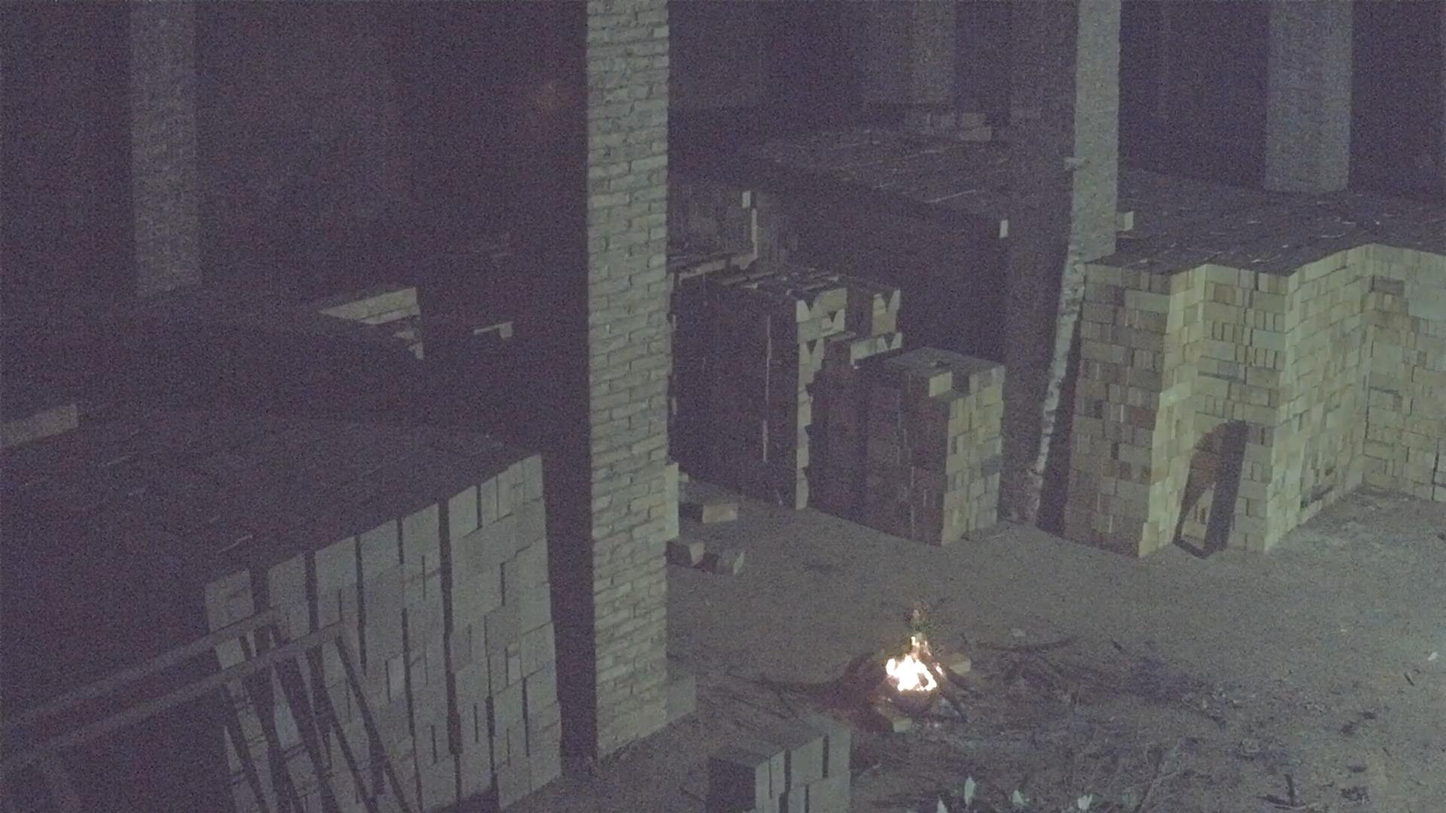fire: (885, 635, 940, 693)
